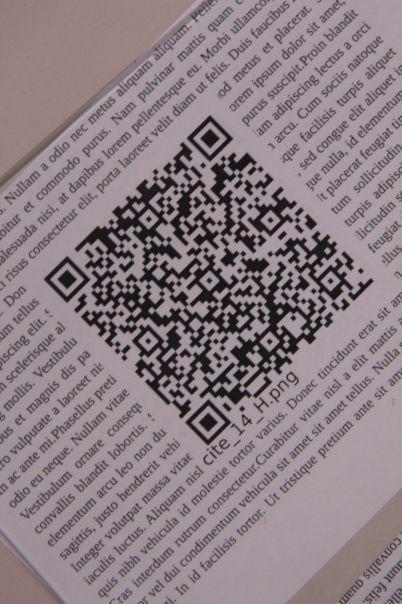Finder pattern: (184, 114, 238, 164), (184, 399, 232, 447), (44, 257, 90, 303)
